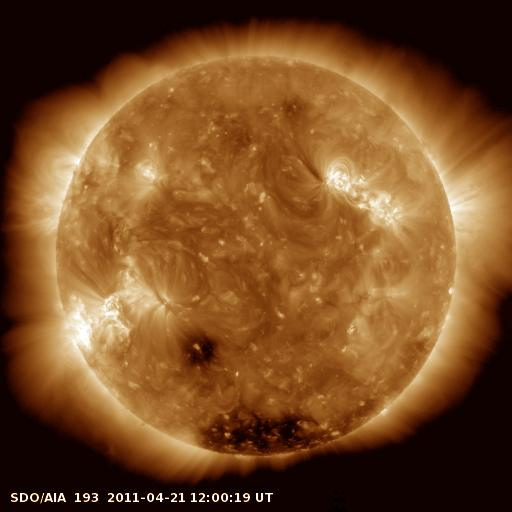coronal_hole: (192, 409, 329, 460), (175, 327, 226, 368)
